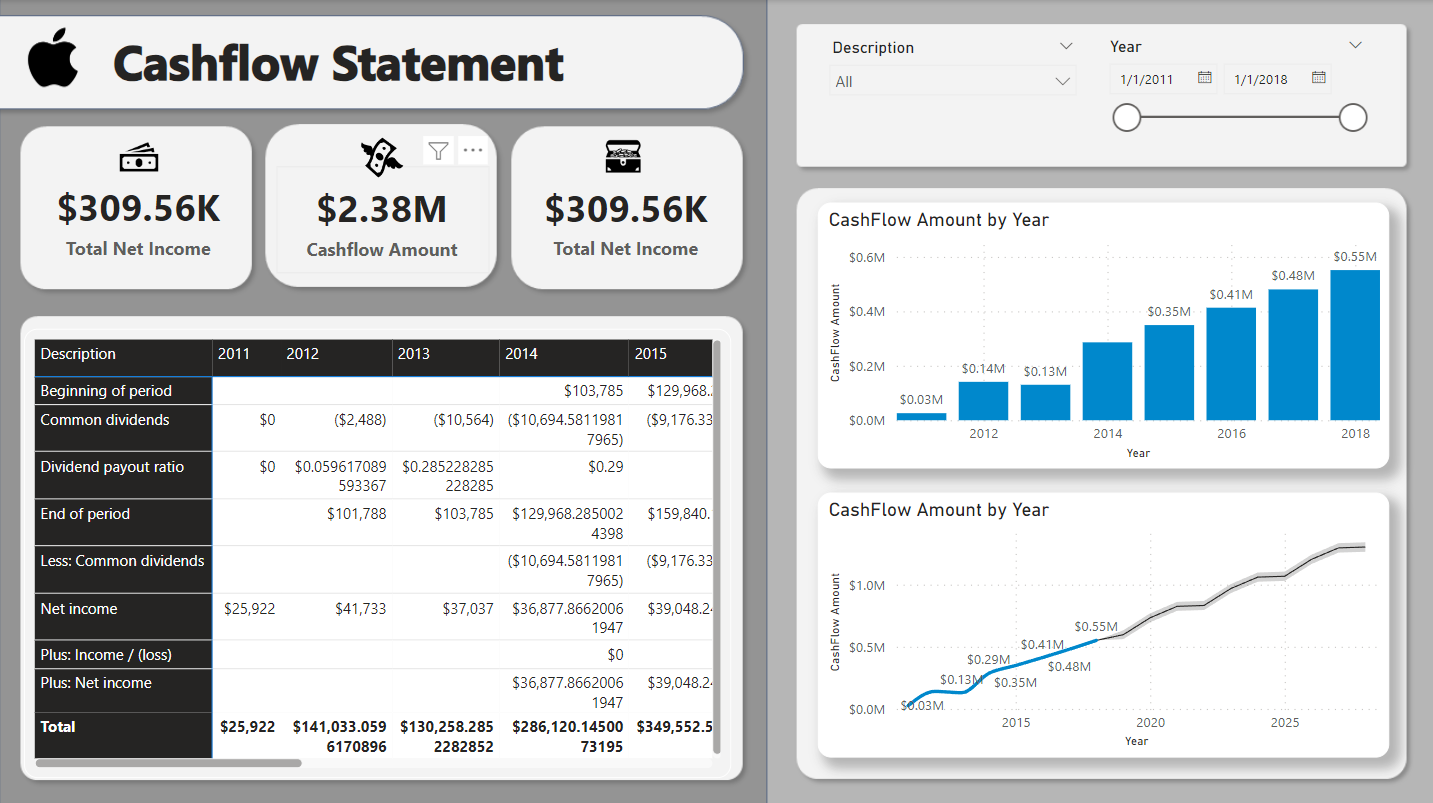

Layout of this report page (visuals, bound fields, positions):
{"tool":"powerbi","page":{"name":"Cashflow Statement","canvas":[1280,720],"ordinal":2},"visuals":[{"type":"pivotTable","fields":{"Rows":["CashFlow.Description"],"Values":["Sum(CashFlow.Value)"],"Columns":["CashFlow.Year.Variation.Date Hierarchy.Year","CashFlow.Year.Variation.Date Hierarchy.Quarter","CashFlow.Year.Variation.Date Hierarchy.Month","CashFlow.Year.Variation.Date Hierarchy.Day"]},"box":[22.1,292.8,629.8,399.7],"z":0},{"type":"card","fields":{"Values":["CashFlow.Total Net Income"]},"box":[30.2,139.4,188.2,112.7],"z":1000},{"type":"lineChart","fields":{"Category":["CashFlow.Year"],"Y":["Sum(CashFlow.Value)"]},"box":[728.5,438.1,508.9,235.9],"z":2000},{"type":"clusteredColumnChart","fields":{"Y":["Sum(CashFlow.Value)"],"Category":["CashFlow.Year"]},"box":[728.5,180.1,508.9,237],"z":3000},{"type":"slicer","fields":{"Values":["CashFlow.Year"]},"box":[976,27.9,251,152.2],"z":4000},{"type":"slicer","fields":{"Values":["CashFlow.Description"]},"box":[728.5,29,240.5,108.1],"z":5000},{"type":"textbox","box":[65.1,19.8,475.2,75.5],"z":6000},{"type":"image","box":[16,17.7,65.1,66.2],"z":7000},{"type":"card","fields":{"Values":["CashFlow.Total Net Income"]},"box":[463.6,153.4,188.2,84.8],"z":8000},{"type":"card","fields":{"Values":["Sum(CashFlow.Value)"]},"box":[247.5,147.6,188.2,96.4],"z":9000},{"type":"image","box":[101.1,117.4,46.5,46.5],"z":10000},{"type":"image","box":[316.1,116.2,50,48.8],"z":11000},{"type":"image","box":[529.9,115,52.3,48.8],"z":12000}]}

Visuals, with their boxes in screenshot pixels (x1, y1, x2, y2), scaled from the page's 1280x720 canvas onto the 1433x803 screenshot:
pivotTable - CashFlow.Description x Sum(CashFlow.Value): (25,327,730,772)
card - CashFlow.Total Net Income: (34,155,245,281)
lineChart - CashFlow.Year x Sum(CashFlow.Value): (816,489,1385,752)
clusteredColumnChart - Sum(CashFlow.Value) x CashFlow.Year: (816,201,1385,465)
slicer - CashFlow.Year: (1093,31,1374,201)
slicer - CashFlow.Description: (816,32,1085,153)
textbox: (73,22,605,106)
image: (18,20,91,94)
card - CashFlow.Total Net Income: (519,171,730,266)
card - Sum(CashFlow.Value): (277,165,488,272)
image: (113,131,165,183)
image: (354,130,410,184)
image: (593,128,652,183)
